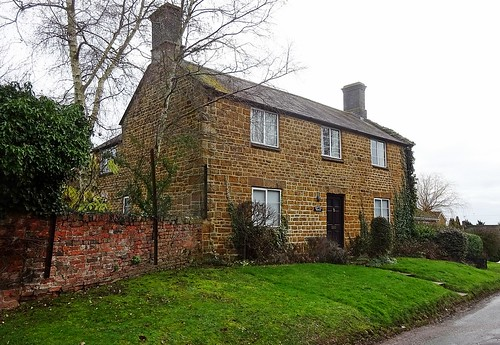medium: (85, 11, 419, 261)
